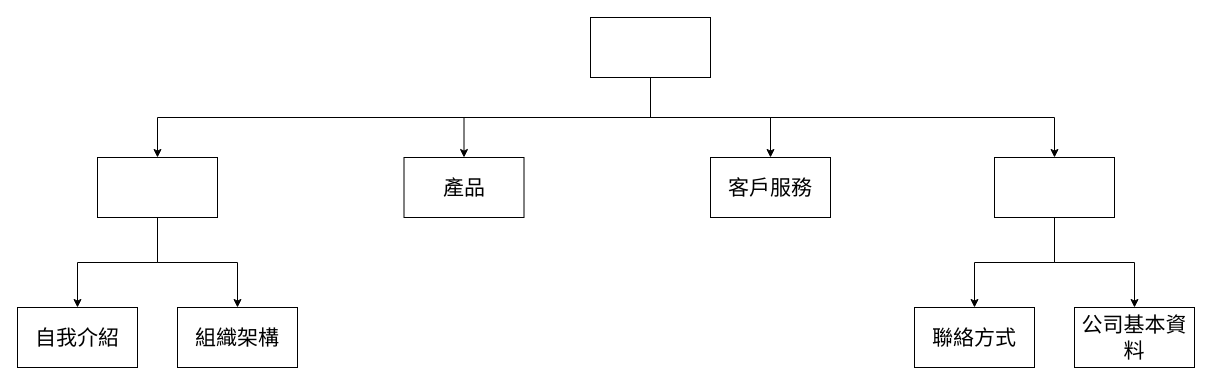
This 1212x385 diagram has some shape labels left out. The centre of each missing label's shape, as x and y in pixels:
"聯絡我們" belongs at pixel 1054 187.
"關於機樸" belongs at pixel 157 187.
"首頁" belongs at pixel 650 47.
